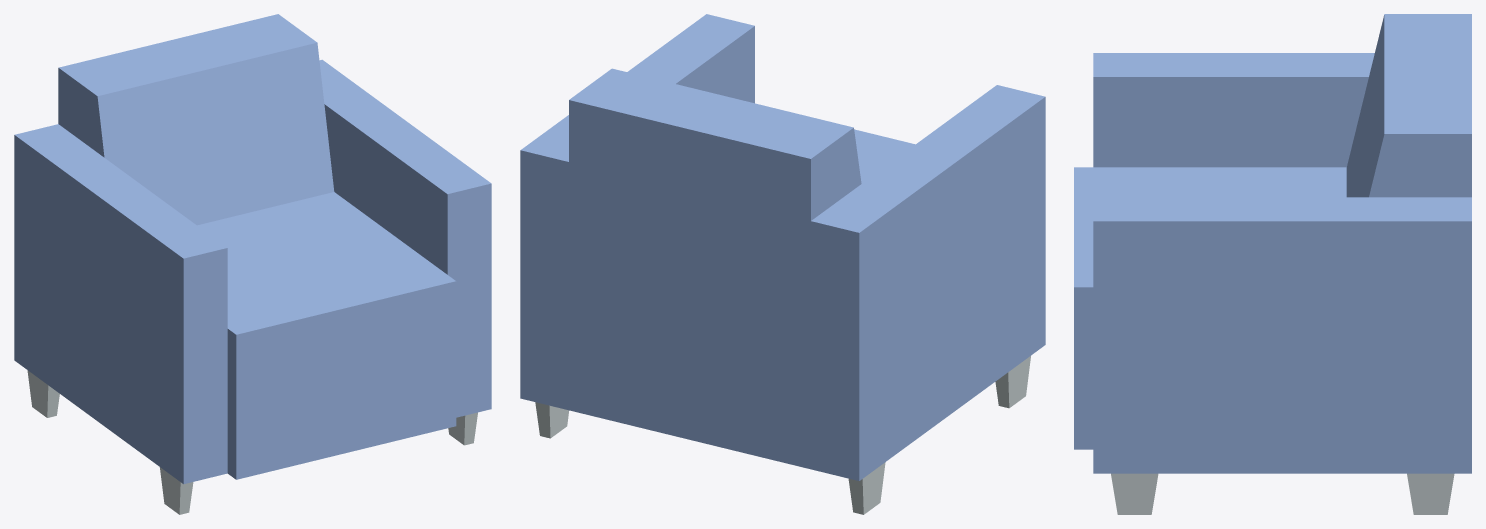
File: kn-lounge-design-sofa.glb
3 views of the same model, side by side, from view 1: azimuth 30°, elevation 25°; view 2: azimuth 150°, elevation 25°; view 3: azimuth 270°, elevation 25° (orthographic). The views are drawn at different scales.
Visible parts, largest first — view 1: loungeDesignSofa(Clone); view 2: loungeDesignSofa(Clone); view 3: loungeDesignSofa(Clone).
Boxes of the visible parts, box(x1,y1,x2,y2) form: loungeDesignSofa(Clone): box(14, 14, 491, 514); loungeDesignSofa(Clone): box(520, 14, 1045, 514); loungeDesignSofa(Clone): box(1074, 14, 1471, 514).
Size of the model in its own units: 1 by 1 by 1.
